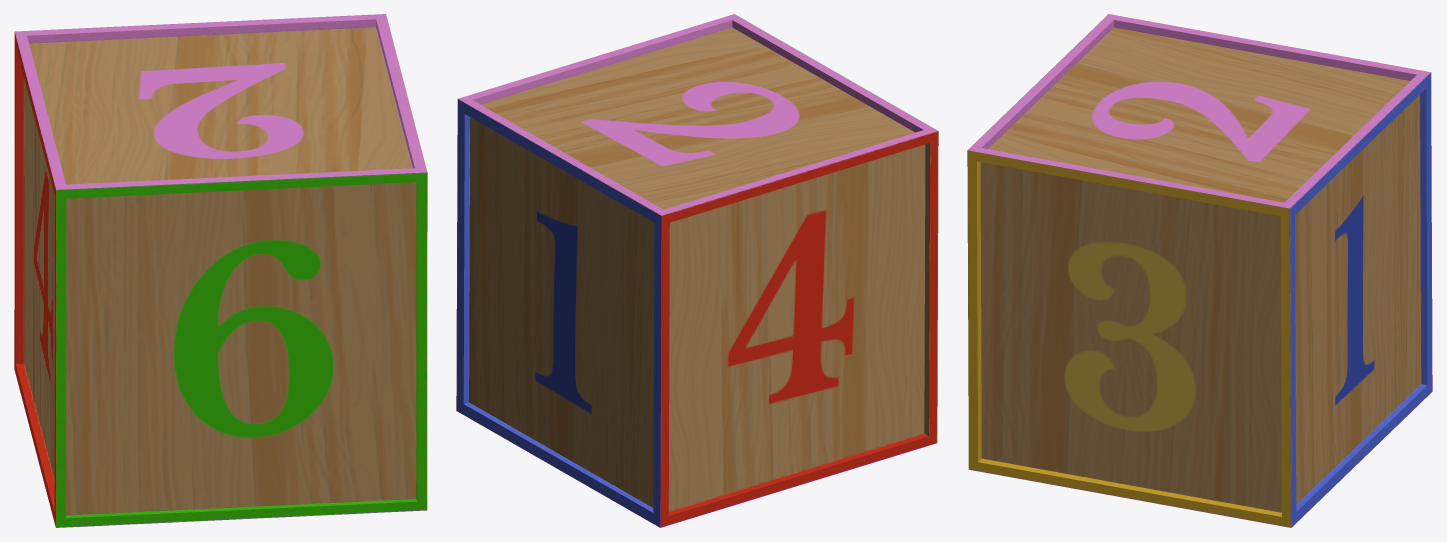
Rendered from Solo_Block.fbx.
3 views of the same model, side by side, from view 1: azimuth 30°, elevation 25°; view 2: azimuth 150°, elevation 25°; view 3: azimuth 270°, elevation 25° (orthographic). The views are drawn at different scales.
Visible parts, largest first — view 1: Single Block_Low; view 2: Single Block_Low; view 3: Single Block_Low.
Boxes of the visible parts, x1=… form: Single Block_Low: x1=14, y1=14, x2=427, y2=527; Single Block_Low: x1=456, y1=14, x2=938, y2=527; Single Block_Low: x1=967, y1=14, x2=1432, y2=527.
Size of the model in its own units: 24.21 by 18.44 by 24.25.
